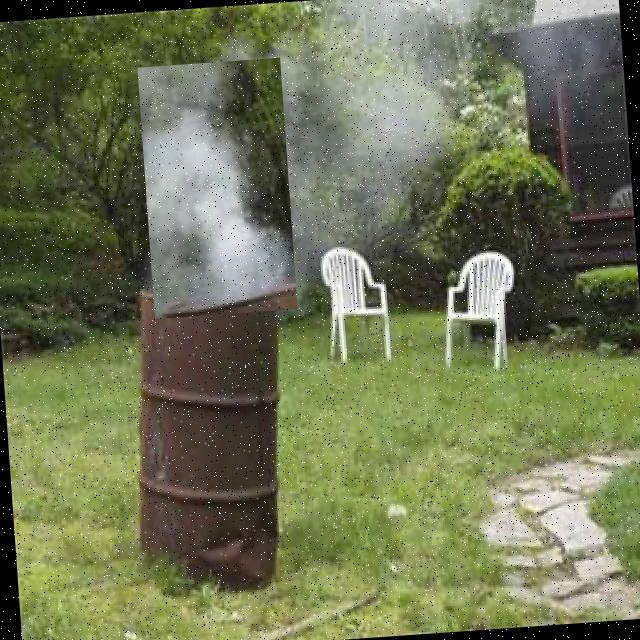fire: (137, 58, 297, 318)
